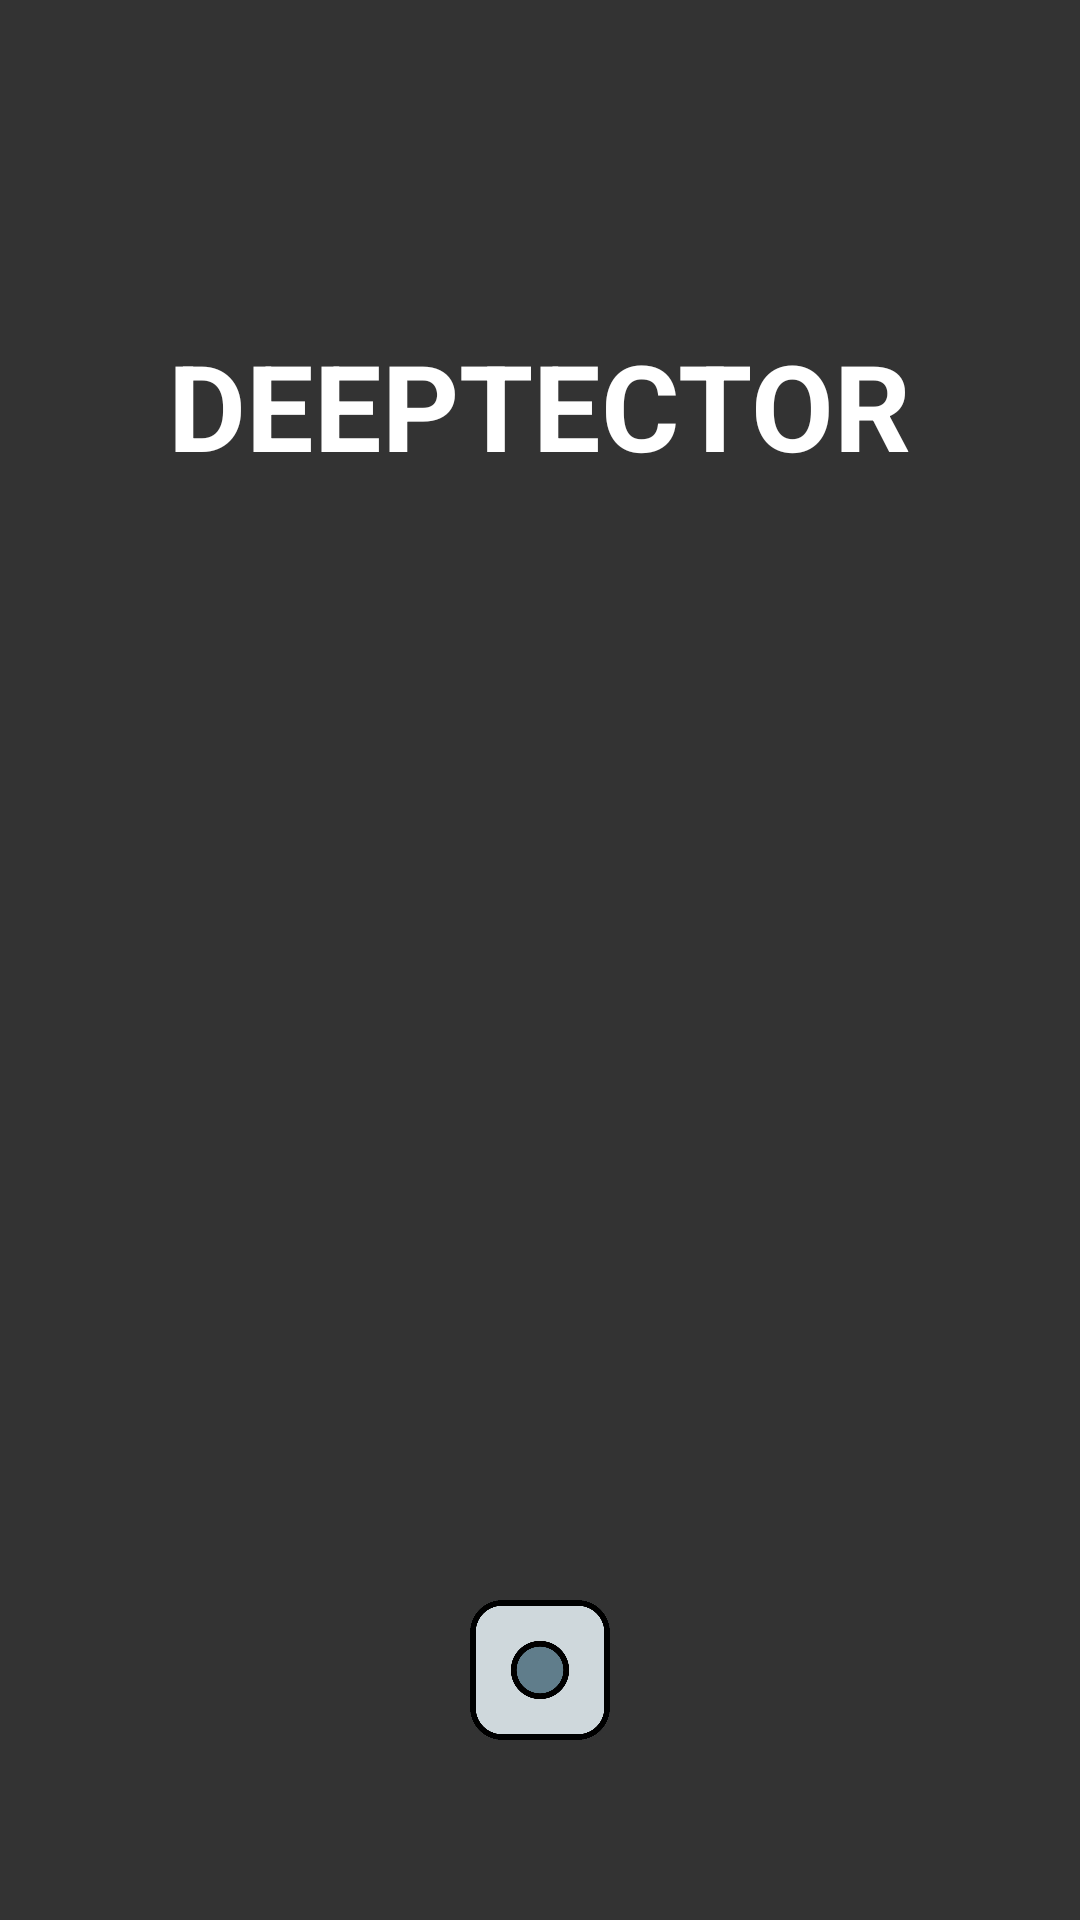

Locate icon controls on the screen. Image size 1080 × 1920, boxes as BBox(x1, y1, x2, y2).
rec: BBox(470, 1600, 610, 1740)
